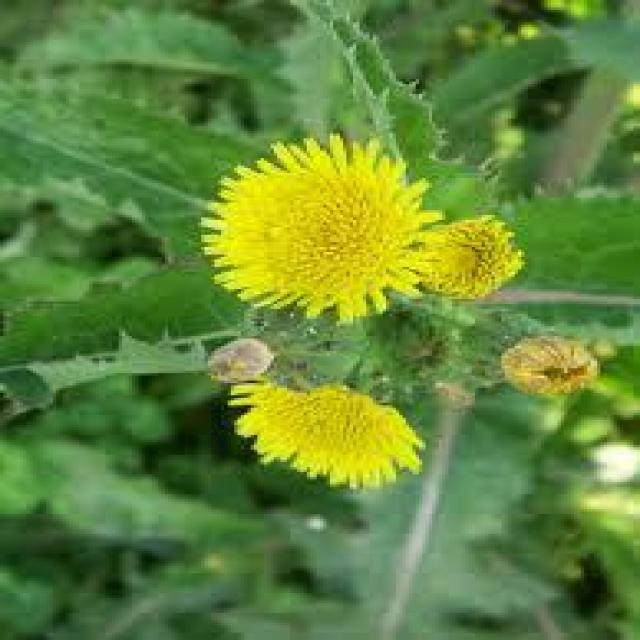organic waste: (188, 131, 445, 319), (216, 367, 437, 493), (396, 206, 531, 310)
